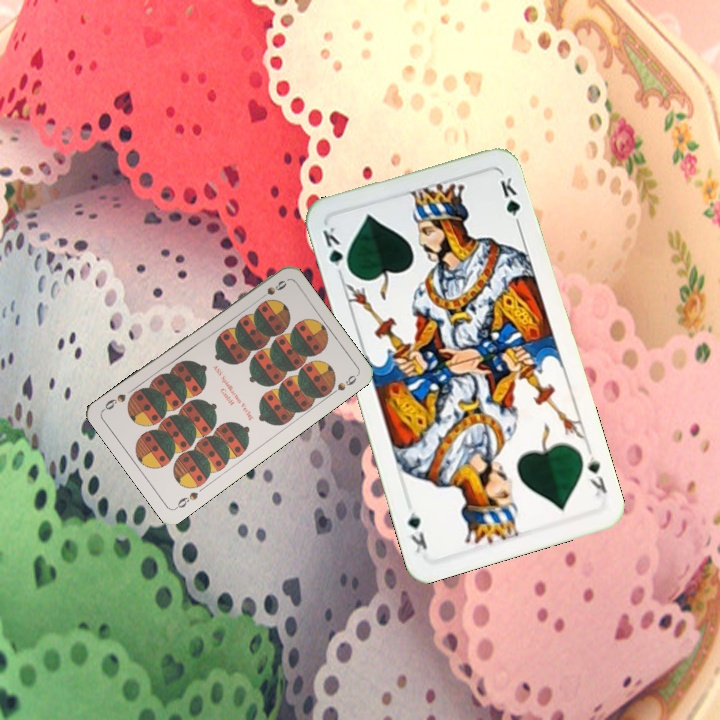GK: (318, 222, 353, 280), (583, 452, 610, 500)
S9: (253, 276, 289, 305), (171, 488, 201, 512)
